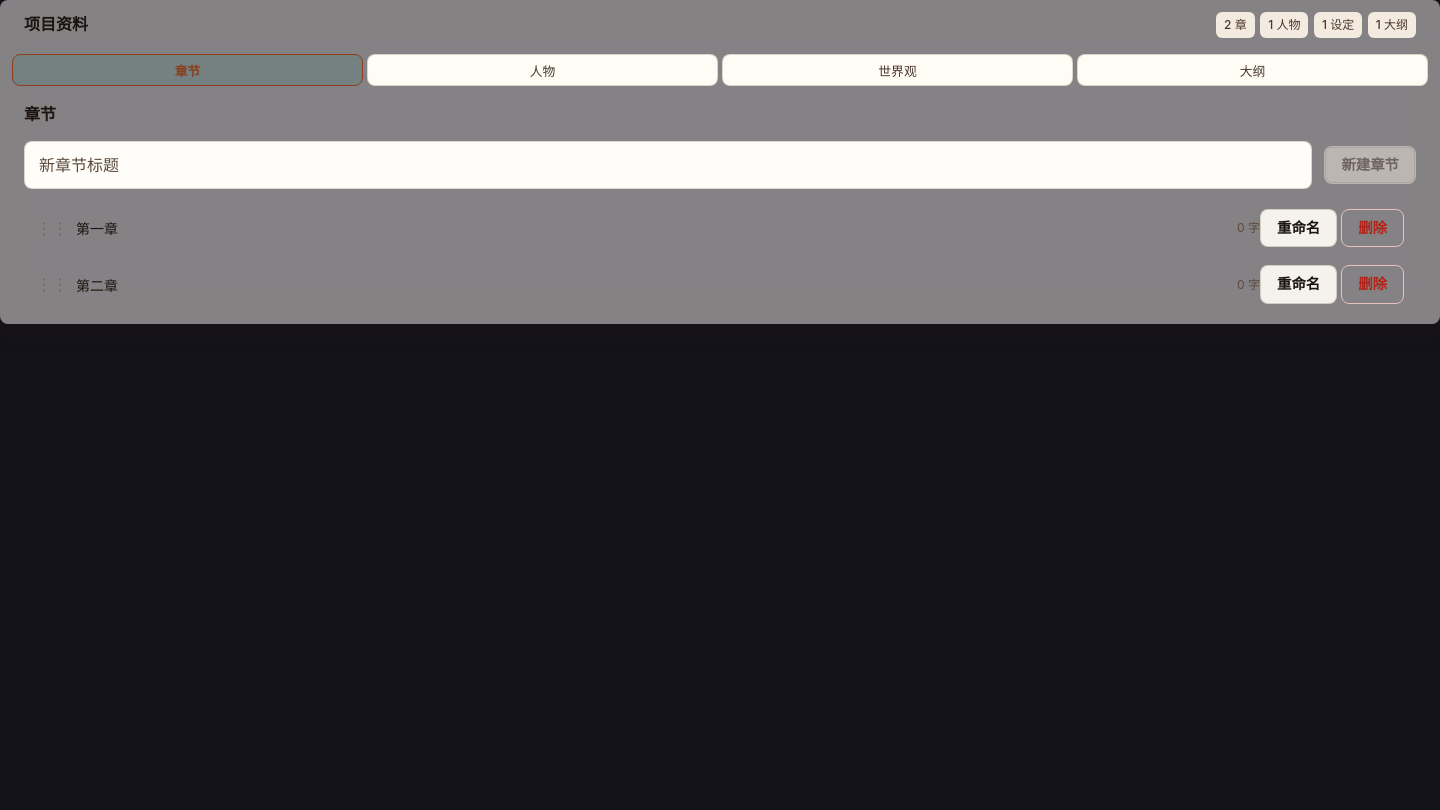
Test: ProjectWorkspaceView › renders chapters, characters, world settings and outlines (Requirement 8.2)
expect the heading "章节" is shown: met, box 24,106 -> 56,123
expect the tab "世界观" is shown: met, box 722,54 -> 1073,86
Click the tab "人物": (542, 70) 367,54 -> 718,86
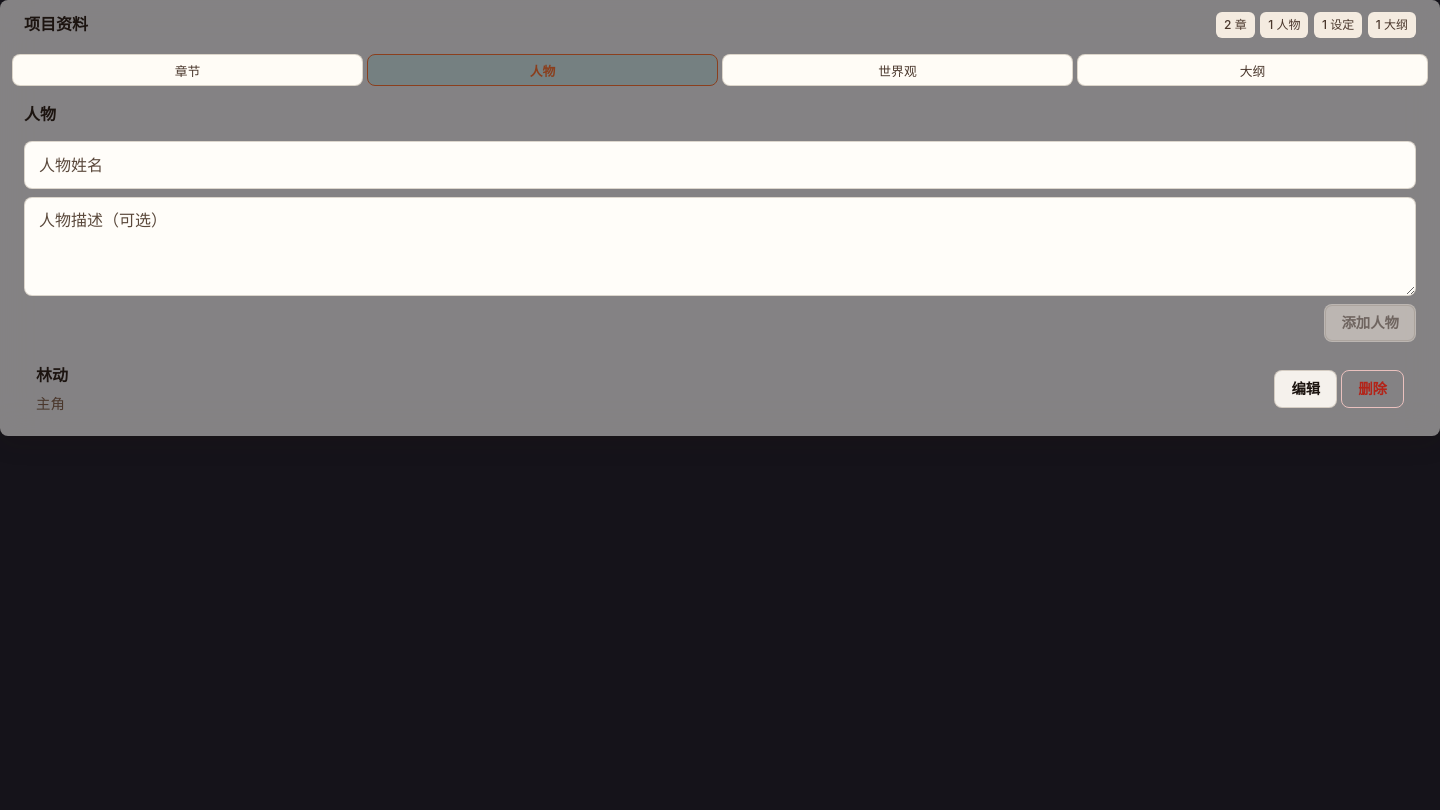
expect the text "林动" is shown: met, box 36,365 -> 68,385
Click the tab "世界观": (898, 70) 722,54 -> 1073,86
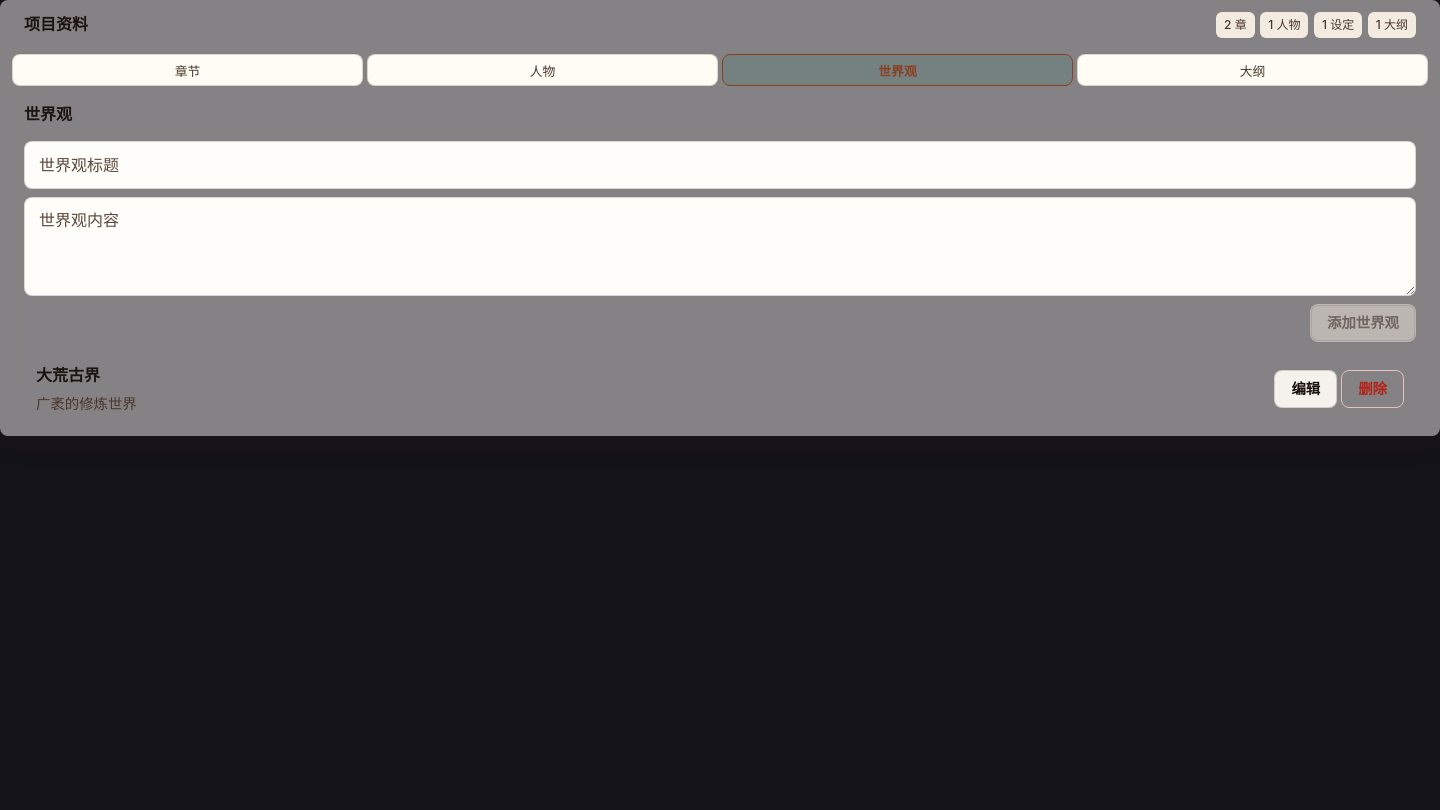
expect the text "大荒古界" is shown: met, box 36,365 -> 100,385
Click the tab "大纲": (1252, 70) 1077,54 -> 1428,86
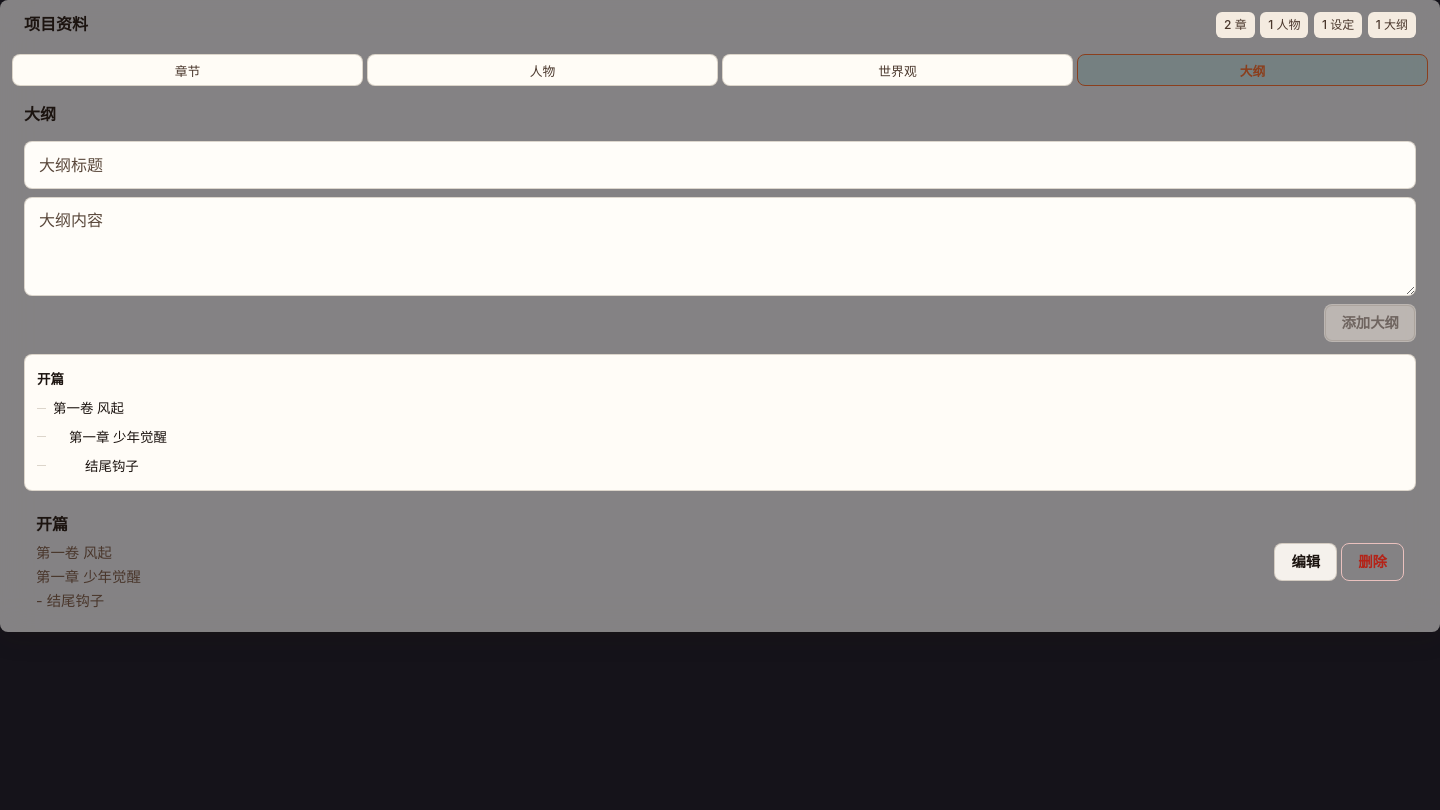
expect the element named "大纲层级树" is shown: met, box 24,354 -> 1416,492
expect the text "第一卷 风起" is shown: met, box 53,400 -> 124,416
expect the text "第一章 少年觉醒" is shown: met, box 69,429 -> 167,445
